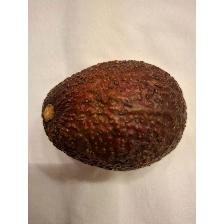Avocado: (38, 59, 190, 174)
